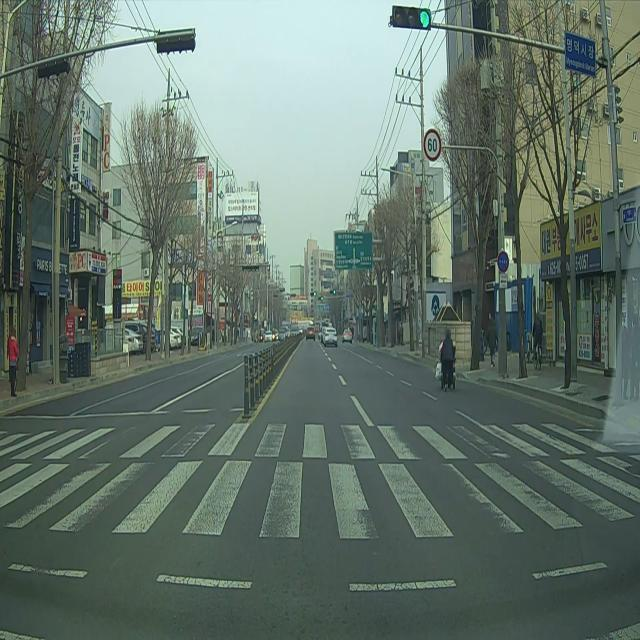crosswalk: (0, 419, 640, 539)
